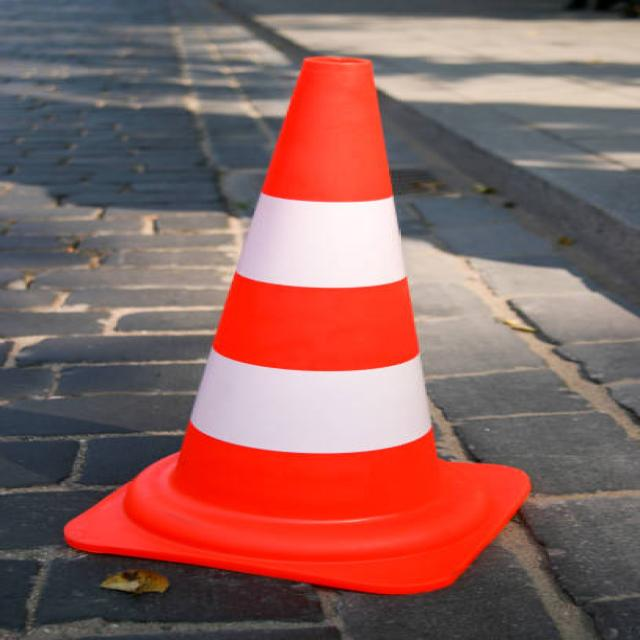Traffic Cone: (24, 35, 583, 613)
